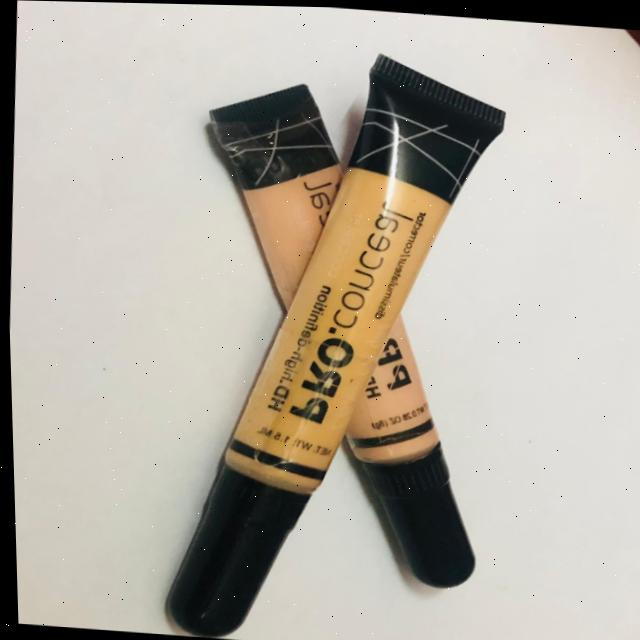concealer: (139, 2, 529, 640)
